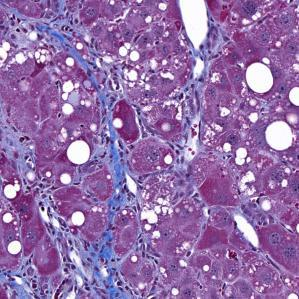fibrosis: (40, 208, 132, 297), (97, 132, 150, 250), (64, 34, 136, 108)
